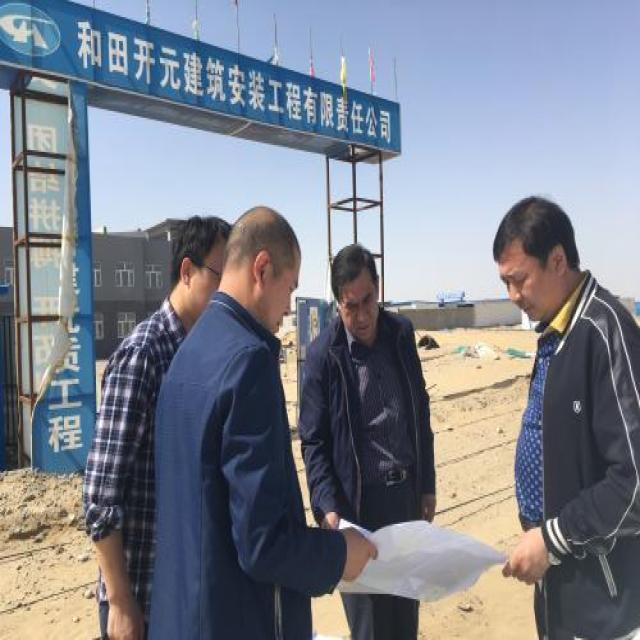no-helmet: (485, 190, 584, 328), (224, 200, 306, 340), (173, 208, 228, 323), (328, 239, 382, 345)
